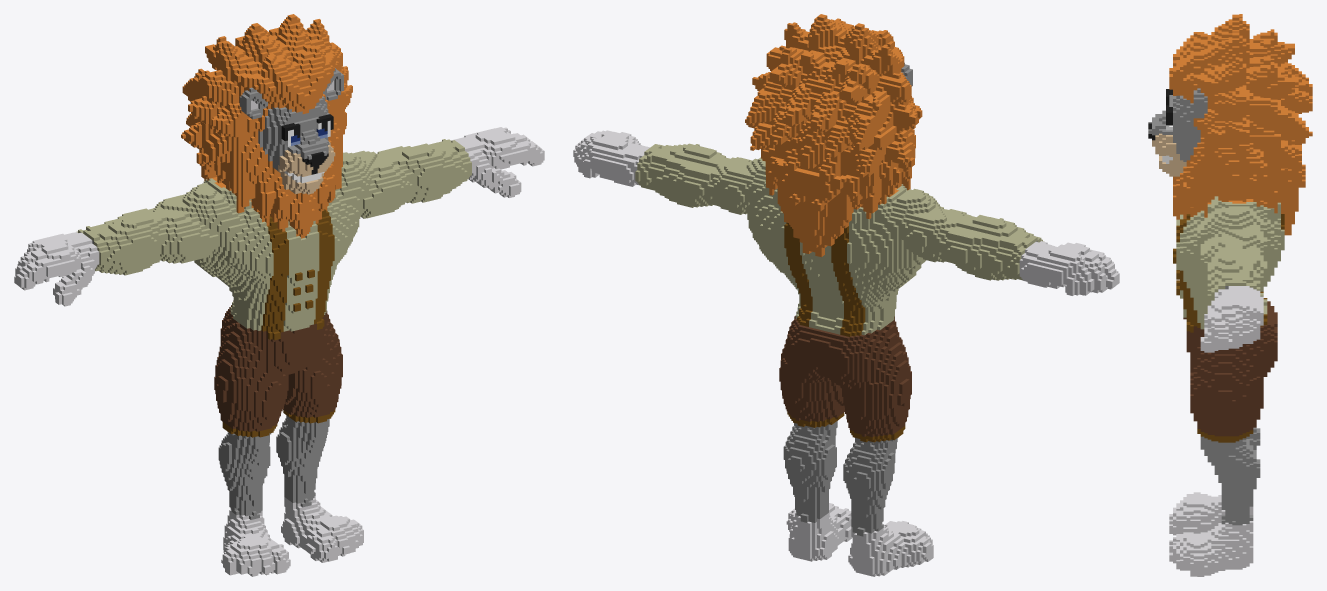
File: 132-D2p35fpy.glb
3 renders of one model, left to right at view 1: azimuth 30°, elevation 25°; view 2: azimuth 150°, elevation 25°; view 3: azimuth 270°, elevation 25°, orthographic. The views are drawn at different scales.
Visible parts, largest first — view 1: big_smile; view 2: big_smile; view 3: big_smile.
Part boxes in pixels (x1,y1,x2,y2): big_smile: [14, 14, 544, 576]; big_smile: [573, 14, 1119, 576]; big_smile: [1148, 14, 1312, 576].
Size of the model in its own units: 17.2 by 16.5 by 4.7.
Materials: 5 (5 with a texture image).
